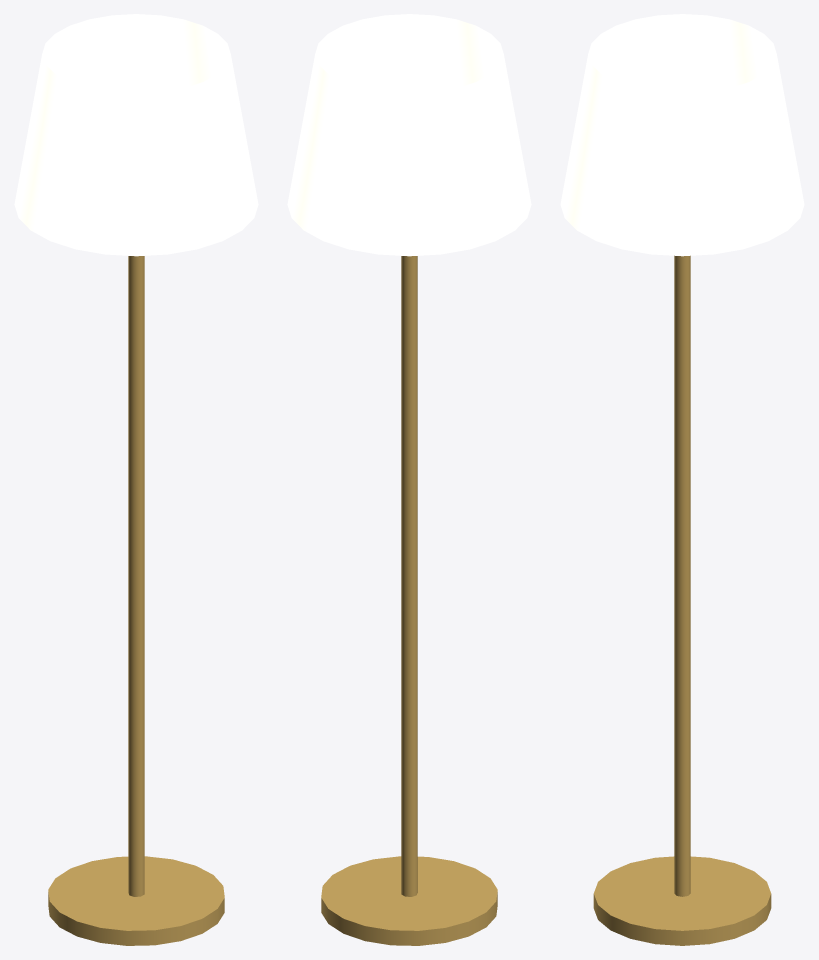
The model's file is fur_floor_lamp.glb.
3 views of the same model, side by side, from view 1: azimuth 30°, elevation 25°; view 2: azimuth 150°, elevation 25°; view 3: azimuth 270°, elevation 25° (orthographic).
Parts seen in each view (by area): view 1: FUR_floor_lamp; view 2: FUR_floor_lamp; view 3: FUR_floor_lamp.
Part boxes in pixels (bbox=[...]): FUR_floor_lamp: bbox=[14, 14, 258, 945]; FUR_floor_lamp: bbox=[287, 14, 531, 945]; FUR_floor_lamp: bbox=[560, 14, 804, 945].
Bounding box in the file's own units: 0.44 × 1.7 × 0.44.
